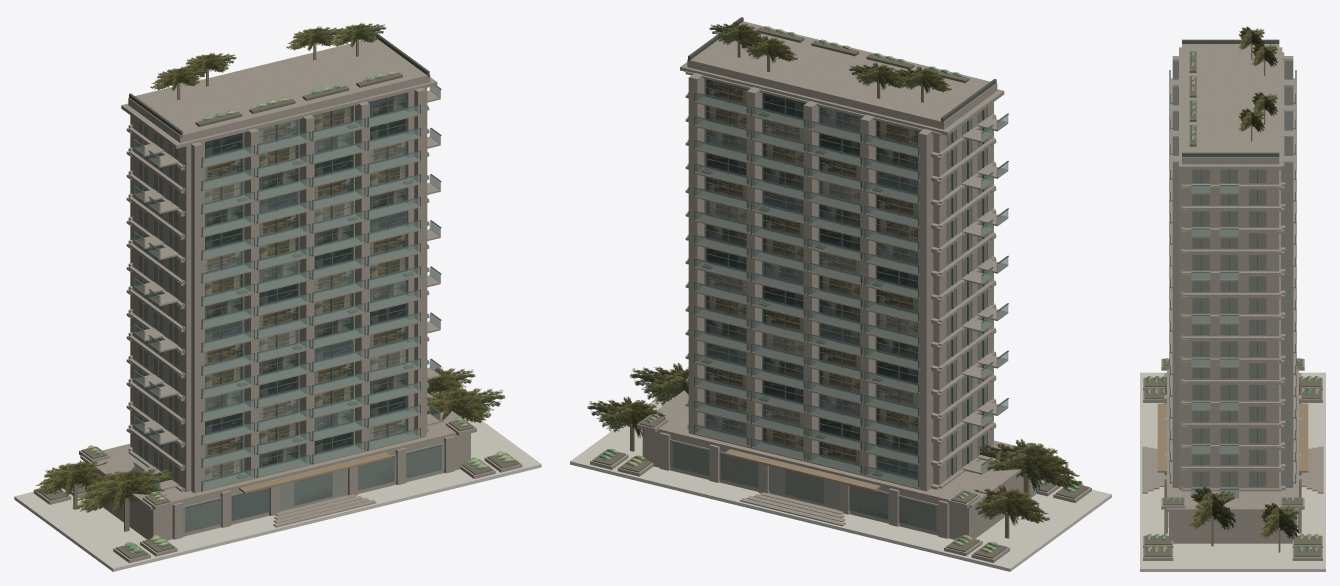
File: promoven-building-v2.glb
3 renders of one model, left to right at view 1: azimuth 30°, elevation 25°; view 2: azimuth 150°, elevation 25°; view 3: azimuth 270°, elevation 25°, orthographic. The views are drawn at different scales.
Parts seen in each view (by area): view 1: Promoven | stone_light, Promoven | stone, Promoven | glass, Promoven | glass_rail, Promoven | furnished rooms, Promoven | bronze, Promoven | paving, Promoven | glass_light, Promoven | detailed tree canopies, Promoven | stone_dark, Promoven | bronze_light, Promoven | soil; view 2: Promoven | stone_light, Promoven | stone, Promoven | glass, Promoven | glass_rail, Promoven | furnished rooms, Promoven | bronze, Promoven | glass_light, Promoven | detailed tree canopies, Promoven | paving, Promoven | stone_dark, Promoven | bronze_light, Promoven | soil (+1 smaller); view 3: Promoven | stone_light, Promoven | stone, Promoven | glass, Promoven | paving, Promoven | stone_dark, Promoven | detailed tree canopies, Promoven | bronze, Promoven | soil, Promoven | glass_rail, Promoven | bronze_light, Promoven | leaf, Promoven | leaf2 (+2 smaller).
Part boxes in pixels (box(x1,y1,x2,y2)): Promoven | stone_light: box(33, 77, 522, 563); Promoven | stone: box(85, 37, 470, 540); Promoven | glass: box(139, 93, 441, 532); Promoven | glass_rail: box(134, 86, 440, 489); Promoven | furnished rooms: box(205, 93, 404, 479); Promoven | bronze: box(129, 33, 442, 508); Promoven | paving: box(14, 397, 541, 571); Promoven | glass_light: box(205, 119, 405, 481); Promoven | detailed tree canopies: box(34, 23, 505, 514); Promoven | stone_dark: box(183, 88, 444, 533); Promoven | bronze_light: box(202, 113, 420, 493); Promoven | soil: box(36, 72, 519, 558); Promoven | stone_light: box(590, 62, 1091, 562); Promoven | stone: box(642, 21, 1039, 539); Promoven | glass: box(673, 79, 987, 531); Promoven | glass_rail: box(694, 93, 1008, 487); Promoven | furnished rooms: box(707, 79, 919, 478); Promoven | bronze: box(672, 17, 1008, 506); Promoven | glass_light: box(705, 107, 917, 480); Promoven | detailed tree canopies: box(587, 21, 1082, 525); Promoven | paving: box(570, 395, 1111, 571); Promoven | stone_dark: box(670, 74, 938, 532); Promoven | bronze_light: box(694, 101, 918, 491); Promoven | soil: box(592, 27, 1089, 558); Promoven | stone_light: box(1142, 47, 1323, 560); Promoven | stone: box(1169, 44, 1296, 543); Promoven | glass: box(1166, 170, 1299, 496); Promoven | paving: box(1140, 372, 1325, 571); Promoven | stone_dark: box(1168, 60, 1297, 527); Promoven | detailed tree canopies: box(1189, 26, 1298, 538); Promoven | bronze: box(1165, 39, 1300, 497); Promoven | soil: box(1144, 51, 1321, 556); Promoven | glass_rail: box(1191, 186, 1238, 496); Promoven | bronze_light: box(1157, 79, 1308, 482); Promoven | leaf: box(1147, 51, 1319, 552); Promoven | leaf2: box(1147, 51, 1319, 552).
Bounding box in the file's own units: 56.77 × 51.93 × 21.6.
16 materials, 4 textured.
